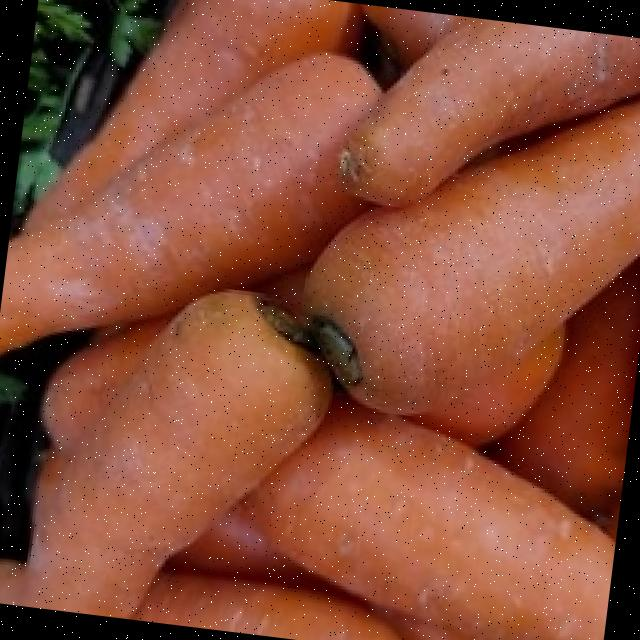carrot: (0, 291, 395, 640), (304, 99, 640, 443), (7, 53, 381, 340), (244, 403, 615, 640), (358, 18, 640, 201)
